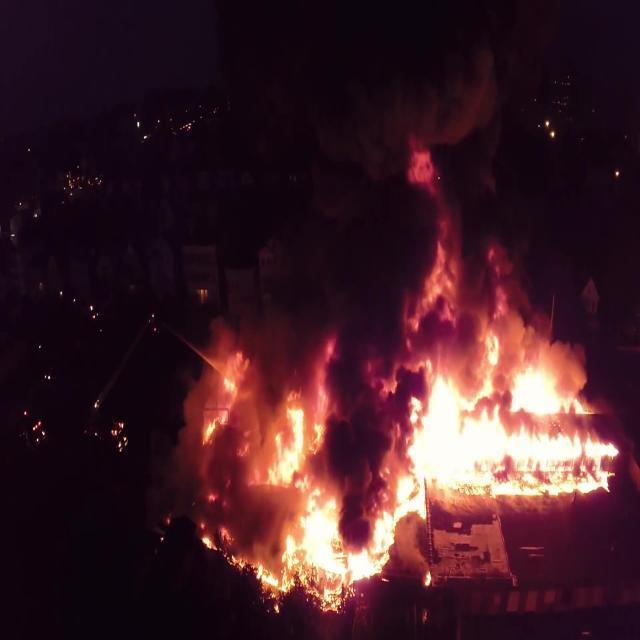Fire: (413, 330, 615, 506), (200, 480, 416, 612), (264, 396, 320, 487), (201, 356, 241, 446)
Smoke: (399, 54, 619, 340), (315, 54, 424, 548)
